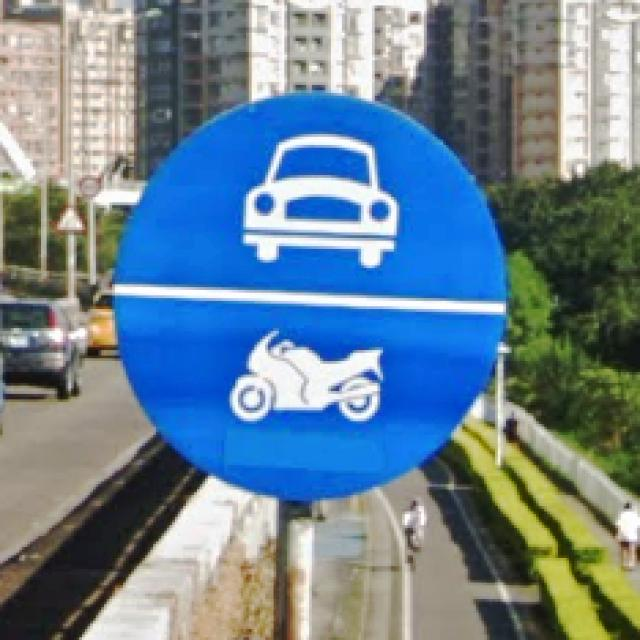carmotorcycle: (115, 93, 509, 506)
